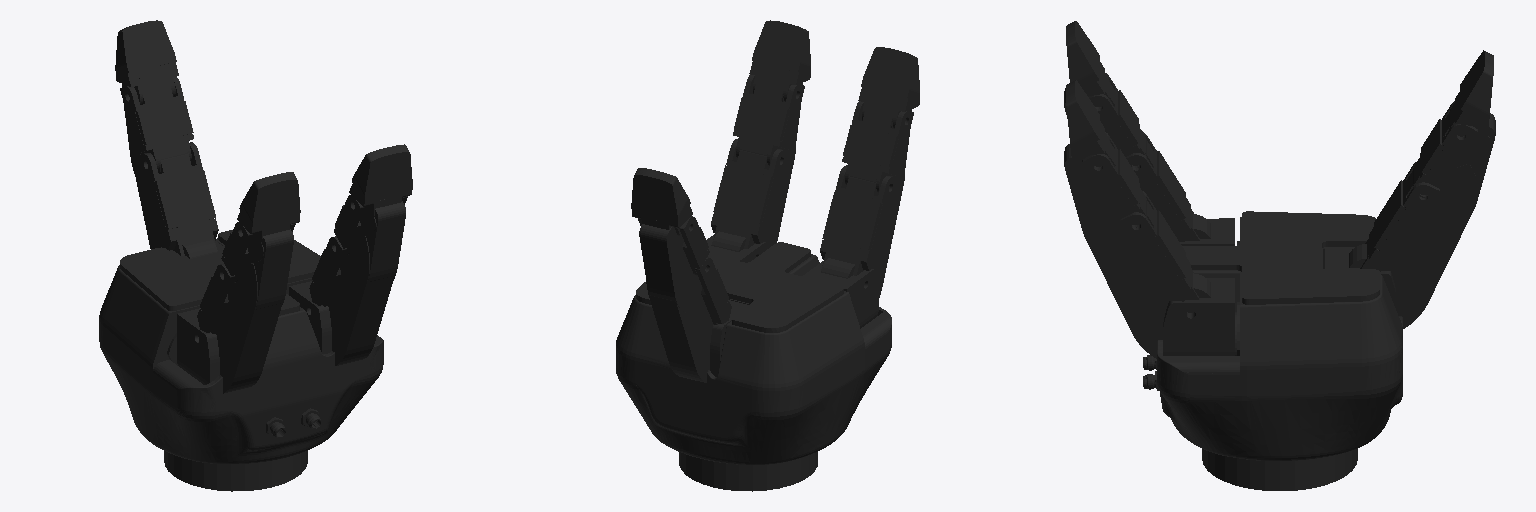
--- Facts derived from the render (not from the file) ---
Views: 3 orthographic renders of the robot side by side, from view 1: azimuth 30°, elevation 25°; view 2: azimuth 150°, elevation 25°; view 3: azimuth 270°, elevation 25°.
Model kuka with 23 links and 22 joints (18 revolute, 4 fixed), rooted at iiwa7_link_0, posed all joints at 0.
Visible links, largest first — view 1: palm, finger_middle_link_1, finger_1_link_1, finger_2_link_1, finger_middle_link_2, finger_middle_link_3, dummy_ft_link, finger_1_link_3, finger_2_link_3, finger_1_link_2, finger_2_link_2, finger_2_link_0 (+1 smaller); view 2: palm, finger_2_link_1, finger_1_link_1, finger_middle_link_1, finger_middle_link_2, finger_2_link_2, finger_1_link_2, finger_2_link_3, finger_1_link_3, dummy_ft_link, finger_middle_link_3, finger_2_link_0 (+2 smaller); view 3: palm, finger_middle_link_1, finger_1_link_1, finger_1_link_2, finger_1_link_0, dummy_ft_link, finger_2_link_1, finger_middle_link_2, finger_middle_link_3, finger_1_link_3, finger_2_link_2, finger_2_link_3 (+2 smaller).
Boxes of the visible links, <box> form: palm: <box>99,230,383,463</box>; finger_middle_link_1: <box>136,142,218,258</box>; finger_1_link_1: <box>309,236,394,365</box>; finger_2_link_1: <box>197,263,282,393</box>; finger_middle_link_2: <box>120,76,193,201</box>; finger_middle_link_3: <box>115,20,178,104</box>; dummy_ft_link: <box>164,451,307,491</box>; finger_1_link_3: <box>349,144,412,234</box>; finger_2_link_3: <box>237,172,300,261</box>; finger_1_link_2: <box>334,195,407,281</box>; finger_2_link_2: <box>221,222,295,309</box>; finger_2_link_0: <box>177,308,219,384</box>; palm: <box>616,242,891,464</box>; finger_2_link_1: <box>820,155,904,297</box>; finger_1_link_1: <box>711,128,795,251</box>; finger_middle_link_1: <box>646,257,731,382</box>; finger_middle_link_2: <box>638,216,709,312</box>; finger_2_link_2: <box>842,101,913,192</box>; finger_1_link_2: <box>733,74,804,165</box>; finger_2_link_3: <box>858,47,919,128</box>; finger_1_link_3: <box>749,20,810,101</box>; dummy_ft_link: <box>679,452,817,491</box>; finger_middle_link_3: <box>631,168,692,236</box>; finger_2_link_0: <box>802,261,878,328</box>; palm: <box>1143,211,1402,460</box>; finger_middle_link_1: <box>1349,162,1477,328</box>; finger_1_link_1: <box>1089,191,1210,358</box>; finger_1_link_2: <box>1064,132,1147,268</box>; finger_1_link_0: <box>1163,278,1236,355</box>; dummy_ft_link: <box>1202,448,1357,490</box>; finger_2_link_1: <box>1126,131,1210,241</box>; finger_middle_link_2: <box>1413,101,1495,208</box>; finger_middle_link_3: <box>1449,50,1493,162</box>; finger_1_link_3: <box>1066,80,1110,167</box>; finger_2_link_2: <box>1064,73,1147,167</box>; finger_2_link_3: <box>1066,21,1110,108</box>.
Bounding box of the posed robot: 0.1302 × 0.2208 × 0.2262 m (x, y, z).
13 mesh visuals loaded from 13 distinct referenced files (5 Collada DAE); not drawn: 8 (reference not matched to a file when rendering).

URDF robot description (kuka):
<?xml version="1.0"?>

<robot name="kuka">
    <!-- Custom materials (colours) -->
    <material name="Black">
        <color rgba="0.2 0.2 0.2 1.0" />
    </material>
    <material name="Grey">
        <color rgba="0.4 0.4 0.4 1.0"/>
    </material>
    <material name="Red">
        <color rgba="0.3 0.0 0.0 0.3" />
    </material>
    <material name="White">
        <color rgba="1.0 1.0 1.0 1.0" />
    </material>

    <link name="iiwa7_link_0">
        <inertial>
            <origin xyz="-0.1 0 0.07" rpy="0 0 0"/>
            <mass value="5"/>
            <inertia ixx="0.05" ixy="0" ixz="0" iyy="0.06" iyz="0" izz="0.03" />
        </inertial>

        <visual>
            <origin xyz="0 0 0" rpy="0 0 0"/>
            <geometry>
                <mesh filename="../mesh/iiwa14/visual/link_0.obj"/>
            </geometry>
            <material name="White"/>
        </visual>

        <collision>
            <origin xyz="0 0 0" rpy="0 0 0"/>
            <geometry>
                <mesh filename="../mesh/iiwa14/collision/link_0.obj"/>
            </geometry>
            <material name="White"/>
        </collision>

        <self_collision_checking>
            <origin xyz="0 0 0" rpy="0 0 0"/>
            <geometry>
                <capsule radius="0.15" length="0.25"/>
            </geometry>
        </self_collision_checking>

    </link>

    <!-- joint between link_0 and link_1 -->
    <joint name="iiwa7_joint_1" type="revolute">
        <parent link="iiwa7_link_0"/>
        <child link="iiwa7_link_1"/>
        <origin xyz="0 0 0.1575" rpy="0 0 0"/>
        <axis xyz="0 0 1"/>
        <limit lower="-2.96705972839" upper="2.96705972839" effort="300" velocity="2" />
        <safety_controller soft_lower_limit="-2.93215314335" soft_upper_limit="2.93215314335" k_position="100" k_velocity="2"/>
        <dynamics damping="0.5"/>
    </joint>

    <link name="iiwa7_link_1">
        <inertial>
            <origin xyz="0 -0.03 0.12" rpy="0 0 0"/>
            <mass value="4"/>
            <inertia ixx="0.1" ixy="0" ixz="0" iyy="0.09" iyz="0" izz="0.02" />
        </inertial>

        <visual>
            <origin xyz="0 0 0" rpy="0 0 0"/>
            <geometry>
                <mesh filename="../mesh/iiwa14/visual/link_1.obj"/>
            </geometry>
            <material name="White"/>
        </visual>

        <collision>
            <origin xyz="0 0 0" rpy="0 0 0"/>
            <geometry>
                <mesh filename="../mesh/iiwa14/collision/link_1.obj"/>
            </geometry>
            <material name="White"/>
        </collision>
    </link>

    <!-- joint between link_1 and link_2 -->
    <joint name="iiwa7_joint_2" type="revolute">
        <parent link="iiwa7_link_1"/>
        <child link="iiwa7_link_2"/>
        <origin xyz="0 0 0.2025" rpy="1.57079632679   0 3.14159265359"/>
        <axis xyz="0 0 1"/>
        <limit lower="-2.09439510239" upper="2.09439510239" effort="300" velocity="2" />
        <safety_controller soft_lower_limit="-2.05948851735" soft_upper_limit="2.05948851735" k_position="100" k_velocity="2"/>
        <dynamics damping="0.5"/>
    </joint>

    <link name="iiwa7_link_2">
        <inertial>
            <origin xyz="0.0003 0.059 0.042" rpy="0 0 0"/>
            <mass value="4"/>
            <inertia ixx="0.05" ixy="0" ixz="0" iyy="0.018" iyz="0" izz="0.044" />
        </inertial>

        <visual>
            <origin xyz="0 0 0" rpy="0 0 0"/>
            <geometry>
                <mesh filename="../mesh/iiwa14/visual/link_2.obj"/>
            </geometry>
            <material name="White"/>
        </visual>

        <collision>
            <origin xyz="0 0 0" rpy="0 0 0"/>
            <geometry>
                <mesh filename="../mesh/iiwa14/collision/link_2.obj"/>
            </geometry>
            <material name="White"/>
        </collision>
    </link>

    <!-- joint between link_2 and link_3 -->
    <joint name="iiwa7_joint_3" type="revolute">
        <parent link="iiwa7_link_2"/>
        <child link="iiwa7_link_3"/>
        <origin xyz="0 0.2045 0" rpy="1.57079632679 0 3.14159265359"/>
        <axis xyz="0 0 1"/>
        <limit lower="-2.96705972839" upper="2.96705972839" effort="300" velocity="2" />
        <safety_controller soft_lower_limit="-2.93215314335" soft_upper_limit="2.93215314335" k_position="100" k_velocity="2"/>
        <dynamics damping="0.5"/>
    </joint>

    <link name="iiwa7_link_3">
        <inertial>
            <origin xyz="0 0.03 0.13" rpy="0 0 0"/>
            <mass value="3"/>
            <inertia ixx="0.08" ixy="0" ixz="0" iyy="0.075" iyz="0" izz="0.01" />
        </inertial>

        <visual>
            <origin xyz="0 0 0" rpy="0 0 0"/>
            <geometry>
                <mesh filename="../mesh/iiwa14/visual/link_3.obj"/>
            </geometry>
            <material name="White"/>
        </visual>

        <collision>
            <origin xyz="0 0 0" rpy="0 0 0"/>
            <geometry>
                <mesh filename="../mesh/iiwa14/collision/link_3.obj"/>
            </geometry>
            <material name="White"/>
        </collision>
    </link>

    <!-- joint between link_3 and link_4 -->
    <joint name="iiwa7_joint_4" type="revolute">
        <parent link="iiwa7_link_3"/>
        <child link="iiwa7_link_4"/>
        <origin xyz="0 0 0.2155" rpy="1.57079632679 0 0"/>
        <axis xyz="0 0 1"/>
        <limit lower="-2.09439510239" upper="2.09439510239" effort="300" velocity="2" />
        <safety_controller soft_lower_limit="-2.05948851735" soft_upper_limit="2.05948851735" k_position="100" k_velocity="2"/>
        <dynamics damping="0.5"/>
    </joint>

    <link name="iiwa7_link_4">
        <inertial>
            <origin xyz="0 0.067 0.034" rpy="0 0 0"/>
            <mass value="2.7"/>
            <inertia ixx="0.03" ixy="0" ixz="0" iyy="0.01" iyz="0" izz="0.029" />
        </inertial>

        <visual>
            <origin xyz="0 0 0" rpy="0 0 0"/>
            <geometry>
                <mesh filename="../mesh/iiwa14/visual/link_4.obj"/>
            </geometry>
            <material name="White"/>
        </visual>

        <collision>
            <origin xyz="0 0 0" rpy="0 0 0"/>
            <geometry>
                <mesh filename="../mesh/iiwa14/collision/link_4.obj"/>
            </geometry>
            <material name="White"/>
        </collision>
    </link>

    <!-- joint between link_4 and link_5 -->
    <joint name="iiwa7_joint_5" type="revolute">
        <parent link="iiwa7_link_4"/>
        <child link="iiwa7_link_5"/>
        <origin xyz="0 0.1845 0" rpy="-1.57079632679 3.14159265359 0"/>
        <axis xyz="0 0 1"/>
        <limit lower="-2.96705972839" upper="2.96705972839" effort="300" velocity="2" />
        <safety_controller soft_lower_limit="-2.93215314335" soft_upper_limit="2.93215314335" k_position="100" k_velocity="2"/>
        <dynamics damping="0.5"/>
    </joint>

    <link name="iiwa7_link_5">
        <inertial>
            <origin xyz="0.0001 0.021 0.076" rpy="0 0 0"/>
            <mass value="1.7"/>
            <inertia ixx="0.02" ixy="0" ixz="0" iyy="0.018" iyz="0" izz="0.005" />
        </inertial>

        <visual>
            <origin xyz="0 0 0" rpy="0 0 0"/>
            <geometry>
                <mesh filename="../mesh/iiwa14/visual/link_5.obj"/>
            </geometry>
            <material name="White"/>
        </visual>

        <collision>
            <origin xyz="0 0 0" rpy="0 0 0"/>
            <geometry>
                <mesh filename="../mesh/iiwa14/collision/link_5.obj"/>
            </geometry>
            <material name="White"/>
        </collision>
    </link>

    <!-- joint between link_5 and link_6 -->
    <joint name="iiwa7_joint_6" type="revolute">
        <parent link="iiwa7_link_5"/>
        <child link="iiwa7_link_6"/>
        <origin xyz="0 0 0.2155" rpy="1.57079632679 0 0"/>
        <axis xyz="0 0 1"/>
        <limit lower="-2.09439510239" upper="2.09439510239" effort="300" velocity="2" />
        <safety_controller soft_lower_limit="-2.05948851735" soft_upper_limit="2.05948851735" k_position="100" k_velocity="2"/>
        <dynamics damping="0.5"/>
    </joint>

    <link name="iiwa7_link_6">
        <inertial>
            <origin xyz="0 0.0006 0.0004" rpy="0 0 0"/>
            <mass value="1.8"/>
            <inertia ixx="0.005" ixy="0" ixz="0" iyy="0.0036" iyz="0" izz="0.0047" />
        </inertial>

        <visual>
            <origin xyz="0 0 0" rpy="0 0 0"/>
            <geometry>
                <mesh filename="../mesh/iiwa14/visual/link_6.obj"/>
            </geometry>
            <material name="White"/>
        </visual>

        <collision>
            <origin xyz="0 0 0" rpy="0 0 0"/>
            <geometry>
                <mesh filename="../mesh/iiwa14/collision/link_6.obj"/>
            </geometry>
            <material name="White"/>
        </collision>
    </link>

    <!-- joint between link_6 and link_7 -->
    <joint name="iiwa7_joint_7" type="revolute">
        <parent link="iiwa7_link_6"/>
        <child link="iiwa7_link_7"/>
        <origin xyz="0 0.081 0" rpy="-1.57079632679 3.14159265359 0"/>
        <!-- <origin xyz="0 0.081 0" rpy="-1.57079632679 0 0"/> -->
        <axis xyz="0 0 1"/>
        <limit lower="-3.05432619099" upper="3.05432619099" effort="300" velocity="2" />
        <safety_controller soft_lower_limit="-3.01941960595" soft_upper_limit="3.01941960595" k_position="100" k_velocity="2"/>
        <dynamics damping="0.5"/>
    </joint>

    <link name="iiwa7_link_7">
        <inertial>
            <origin xyz="0 0 0.02" rpy="0 0 0"/>
            <mass value="0.3"/>
            <inertia ixx="0.001" ixy="0" ixz="0" iyy="0.001" iyz="0" izz="0.001" />
        </inertial>

        <visual>
            <origin xyz="0 0 0" rpy="0 0 0"/>
            <geometry>
                <mesh filename="../mesh/iiwa14/visual/link_7-MF-Touch-pneumatisch.obj"/>
            </geometry>
            <material name="Grey"/>
        </visual>

        <collision>
            <origin xyz="0 0 0" rpy="0 0 0"/>
            <geometry>
                <mesh filename="../mesh/iiwa14/visual/link_7-MF-Touch-pneumatisch.obj"/>
            </geometry>
            <material name="Grey"/>
        </collision>
    </link>

    <!-- Robotiq 3 Finger Coupling: https://assets.robotiq.com/website-assets/support_documents/document/3-Finger_PDF_20190221.pdf#page=80 -->
    <link name="dummy_ft_link">
        <visual>
            <geometry>
                <cylinder length="0.02" radius="0.04"/>
            </geometry>
            <material name="Black"/>
        </visual>
        <inertial>
            <origin xyz="0 0 0" rpy="0 0 0"/>
            <mass value="0.025"/>
            <inertia ixx="0.001" ixy="0" ixz="0" iyy="0.001" iyz="0" izz="0.001" />
        </inertial>
        <collision>
            <origin xyz="0 0 0" rpy="0 0 0"/>
            <geometry>
                <cylinder length="0.02" radius="0.04"/>
            </geometry>
            <material name="Black"/>
        </collision>
    </link>

    <!-- joint between link_ee and gripper -->
    <joint name="iiwa_ft_base_joint" type="fixed">
        <parent link="iiwa7_link_7"/>
        <child link="dummy_ft_link"/>
        <origin rpy="0 0 0" xyz="0 0 0.081001"/>
        <!-- <origin rpy="0 0 0" xyz="0 0 0.09"/> -->
    </joint>

    <joint name="iiwa_gripper_base_joint" type="fixed">
        <parent link="dummy_ft_link"/>
        <child link="palm"/>
        <origin rpy="1.57079632679 0 1.57079632679" xyz="0 0 0.054"/>
    </joint>

    <!-- Robotiq 3 Finger Articulated URDF: https://github.com/ros-industrial-attic/robotiq/blob/kinetic-devel/robotiq_3f_gripper_visualization/cfg/robotiq-3f-gripper_articulated.urdf -->
    <link name="finger_1_link_0">
        <visual>
            <origin rpy="0 0 0" xyz="0.020 0 0" />
            <geometry>
                <mesh
                    filename="../mesh/robotiq_3f_gripper_visualization/meshes/robotiq-3f-gripper_articulated/visual_Y_UP/link_0.dae" />
            </geometry>
            <material name="Black" />
        </visual>
        <collision>
            <origin rpy="0 3.1416 -1.57" xyz="-0.0455 0.0414 0.036" />
            <geometry>
                <mesh
                    filename="../mesh/robotiq_3f_gripper_visualization/meshes/robotiq-3f-gripper_articulated/collision/link_0.STL" />
            </geometry>
            <material name="Black" />
        </collision>
        <inertial>
            <origin rpy="0 0 0" xyz="0 0 0" />
            <mass value="0.05" />
            <inertia ixx="0.01" ixy="-0.00002" ixz="0.00001" iyy="0.0008" iyz="0" izz="0.001" />
        </inertial>
    </link>
    <link name="finger_1_link_1">
        <visual>
            <origin rpy="0 0 -0.52" xyz="0.050 -.028 0" />
            <geometry>
                <mesh
                    filename="../mesh/robotiq_3f_gripper_visualization/meshes/robotiq-3f-gripper_articulated/visual_Y_UP/link_1.dae" />
            </geometry>
            <material name="Black" />
        </visual>
        <collision>
            <origin rpy="0 0 -0.52" xyz="0.050 -.028 0" />
            <geometry>
                <mesh
                    filename="../mesh/robotiq_3f_gripper_visualization/meshes/robotiq-3f-gripper_articulated/collision/link_1.STL" />
            </geometry>
            <material name="Black" />
        </collision>
        <inertial>
            <origin rpy="0 0 0" xyz="0 0 0" />
            <mass value="0.15" />
            <inertia ixx="0.001859" ixy="-0.000376" ixz="0.000028" iyy="0.012756" iyz="0"
                izz="0.0024" />
        </inertial>
    </link>
    <link name="finger_1_link_2">
        <!--
			NOTE: This link has an offset in the z-direction based on the models that were
			used to generate grap-it poses.  With the offset below the model appears visually
			correct, but it is suspect.
			-->
        <visual>
            <origin rpy="0 0 0" xyz="0.039 0 0.0075" />
            <geometry>
                <mesh
                    filename="../mesh/robotiq_3f_gripper_visualization/meshes/robotiq-3f-gripper_articulated/visual_Y_UP/link_2.dae" />
            </geometry>
            <material name="Black" />
        </visual>
        <collision>
            <origin rpy="0 0 0" xyz="0.039 0 0.0075" />
            <geometry>
                <mesh
                    filename="../mesh/robotiq_3f_gripper_visualization/meshes/robotiq-3f-gripper_articulated/collision/link_2.STL" />
            </geometry>
            <material name="Black" />
        </collision>
        <inertial>
            <origin rpy="0 0 0" xyz="0 0 0" />
            <mass value="0.15" />
            <inertia ixx="0.001859" ixy="-0.000376" ixz="0.000028" iyy="0.012756" iyz="0"
                izz="0.0024" />
        </inertial>
    </link>
    <link name="finger_1_link_3">
        <visual>
            <!-- <origin rpy="0 0 0.52" xyz="0 0 0" /> -->
            <origin rpy="0 0 0" xyz="0 0 0" />
            <geometry>
                <mesh
                    filename="../mesh/robotiq_3f_gripper_visualization/meshes/robotiq-3f-gripper_articulated/visual_Y_UP/link_3.dae" />
            </geometry>
            <material name="Black" />
        </visual>
        <collision>
            <!-- <origin rpy="0 0 0.52" xyz="0 0 0" /> -->
            <origin rpy="0 0 0" xyz="0 0 0" />
            <geometry>
                <mesh
                    filename="../mesh/robotiq_3f_gripper_visualization/meshes/robotiq-3f-gripper_articulated/collision/link_3.STL" />
            </geometry>
            <material name="Black" />
        </collision>
        <inertial>
            <origin rpy="0 0 0" xyz="0 0 0" />
            <mass value="0.05" />
            <inertia ixx="0.001239" ixy="-0.000251" ixz="0.000019" iyy="0.00085" iyz="0"
                izz="0.001632" />
        </inertial>
    </link>
    <joint name="finger_1_joint_1" type="revolute">
        <parent link="finger_1_link_0" />
        <child link="finger_1_link_1" />
        <axis xyz="0 0 1" />
        <origin rpy="0 0 0" xyz="0.020 0 0" />
        <limit effort="100" lower="0" upper="3.1416" velocity="100" />
    </joint>
    <joint name="finger_1_joint_2" type="revolute">
        <parent link="finger_1_link_1" />
        <child link="finger_1_link_2" />
        <axis xyz="0 0 1" />
        <origin rpy="0 0 -0.52" xyz="0.050 -.028 0" />
        <limit effort="100" lower="0" upper="3.1416" velocity="100" />
    </joint>
    <joint name="finger_1_joint_3" type="revolute">
        <parent link="finger_1_link_2" />
        <child link="finger_1_link_3" />
        <axis xyz="0 0 1" />
        <origin rpy="0 0 0" xyz="0.039 0 0" />
        <limit effort="100" lower="0" upper="3.1416" velocity="100" />
    </joint>
    <link name="finger_2_link_0">
        <visual>
            <origin rpy="0 0 0" xyz="0.020 0 0" />
            <geometry>
                <mesh
                    filename="../mesh/robotiq_3f_gripper_visualization/meshes/robotiq-3f-gripper_articulated/visual_Y_UP/link_0.dae" />
            </geometry>
            <material name="Black" />
        </visual>
        <collision>
            <origin rpy="0 3.1416 -1.57" xyz="-0.0455 0.0414 0.036" />
            <geometry>
                <mesh
                    filename="../mesh/robotiq_3f_gripper_visualization/meshes/robotiq-3f-gripper_articulated/collision/link_0.STL" />
            </geometry>
            <material name="Black" />
        </collision>
        <inertial>
            <origin rpy="0 0 0" xyz="0 0 0" />
            <mass value="0.05" />
            <inertia ixx="0.01" ixy="-0.00002" ixz="0.00001" iyy="0.0008" iyz="0" izz="0.001" />
        </inertial>
    </link>
    <link name="finger_2_link_1">
        <visual>
            <origin rpy="0 0 -0.52" xyz="0.050 -.028 0" />
            <geometry>
                <mesh
                    filename="../mesh/robotiq_3f_gripper_visualization/meshes/robotiq-3f-gripper_articulated/visual_Y_UP/link_1.dae" />
            </geometry>
            <material name="Black" />
        </visual>
        <collision>
            <origin rpy="0 0 -0.52" xyz="0.050 -.028 0" />
            <geometry>
                <mesh
                    filename="../mesh/robotiq_3f_gripper_visualization/meshes/robotiq-3f-gripper_articulated/collision/link_1.STL" />
            </geometry>
            <material name="Black" />
        </collision>
        <inertial>
            <origin rpy="0 0 0" xyz="0 0 0" />
            <mass value="0.15" />
            <inertia ixx="0.001859" ixy="-0.000376" ixz="0.000028" iyy="0.012756" iyz="0"
                izz="0.0024" />
        </inertial>
    </link>
    <link name="finger_2_link_2">
        <!--
			NOTE: This link has an offset in the z-direction based on the models that were
			used to generate grap-it poses.  With the offset below the model appears visually
			correct, but it is suspect.
			-->
        <visual>
            <origin rpy="0 0 0" xyz="0.039 0 0.0075" />
            <geometry>
                <mesh
                    filename="../mesh/robotiq_3f_gripper_visualization/meshes/robotiq-3f-gripper_articulated/visual_Y_UP/link_2.dae" />
            </geometry>
            <material name="Black" />
        </visual>
        <collision>
            <origin rpy="0 0 0" xyz="0.039 0 0.0075" />
            <geometry>
                <mesh
                    filename="../mesh/robotiq_3f_gripper_visualization/meshes/robotiq-3f-gripper_articulated/collision/link_2.STL" />
            </geometry>
            <material name="Black" />
        </collision>
        <inertial>
            <origin rpy="0 0 0" xyz="0 0 0" />
            <mass value="0.15" />
            <inertia ixx="0.001859" ixy="-0.000376" ixz="0.000028" iyy="0.012756" iyz="0"
                izz="0.0024" />
        </inertial>
    </link>
    <link name="finger_2_link_3">
        <visual>
            <!-- <origin rpy="0 0 0.52" xyz="0 0 0" /> -->
            <origin rpy="0 0 0" xyz="0 0 0" />
            <geometry>
                <mesh
                    filename="../mesh/robotiq_3f_gripper_visualization/meshes/robotiq-3f-gripper_articulated/visual_Y_UP/link_3.dae" />
            </geometry>
            <material name="Black" />
        </visual>
        <collision>
            <!-- <origin rpy="0 0 0.52" xyz="0 0 0" /> -->
            <origin rpy="0 0 0" xyz="0 0 0" />
            <geometry>
                <mesh
                    filename="../mesh/robotiq_3f_gripper_visualization/meshes/robotiq-3f-gripper_articulated/collision/link_3.STL" />
            </geometry>
            <material name="Black" />
        </collision>
        <inertial>
            <origin rpy="0 0 0" xyz="0 0 0" />
            <mass value="0.05" />
            <inertia ixx="0.001239" ixy="-0.000251" ixz="0.000019" iyy="0.00085" iyz="0"
                izz="0.001632" />
        </inertial>
    </link>
    <joint name="finger_2_joint_1" type="revolute">
        <parent link="finger_2_link_0" />
        <child link="finger_2_link_1" />
        <axis xyz="0 0 1" />
        <origin rpy="0 0 0" xyz="0.020 0 0" />
        <limit effort="100" lower="0" upper="3.1416" velocity="100" />
    </joint>
    <joint name="finger_2_joint_2" type="revolute">
        <parent link="finger_2_link_1" />
        <child link="finger_2_link_2" />
        <axis xyz="0 0 1" />
        <origin rpy="0 0 -0.52" xyz="0.050 -.028 0" />
        <limit effort="100" lower="0" upper="3.1416" velocity="100" />
    </joint>
    <joint name="finger_2_joint_3" type="revolute">
        <parent link="finger_2_link_2" />
        <child link="finger_2_link_3" />
        <axis xyz="0 0 1" />
        <origin rpy="0 0 0" xyz="0.039 0 0" />
        <limit effort="100" lower="0" upper="3.1416" velocity="100" />
    </joint>
    <link name="finger_middle_link_0">
        <visual>
            <origin rpy="0 0 0" xyz="0.020 0 0" />
            <geometry>
                <mesh
                    filename="../mesh/robotiq_3f_gripper_visualization/meshes/robotiq-3f-gripper_articulated/visual_Y_UP/link_0.dae" />
            </geometry>
            <material name="Black" />
        </visual>
        <collision>
            <origin rpy="0 3.1416 -1.57" xyz="-0.0455 0.0414 0.036" />
            <geometry>
                <mesh
                    filename="../mesh/robotiq_3f_gripper_visualization/meshes/robotiq-3f-gripper_articulated/collision/link_0.STL" />
            </geometry>
            <material name="Black" />
        </collision>
        <inertial>
            <origin rpy="0 0 0" xyz="0 0 0" />
            <mass value="0.05" />
            <inertia ixx="0.01" ixy="-0.00002" ixz="0.00001" iyy="0.0008" iyz="0" izz="0.001" />
        </inertial>
    </link>
    <link name="finger_middle_link_1">
        <visual>
            <origin rpy="0 0 -0.52" xyz="0.050 -.028 0" />
            <geometry>
                <mesh
                    filename="../mesh/robotiq_3f_gripper_visualization/meshes/robotiq-3f-gripper_articulated/visual_Y_UP/link_1.dae" />
            </geometry>
            <material name="Black" />
        </visual>
        <collision>
            <origin rpy="0 0 -0.52" xyz="0.050 -.028 0" />
            <geometry>
                <mesh
                    filename="../mesh/robotiq_3f_gripper_visualization/meshes/robotiq-3f-gripper_articulated/collision/link_1.STL" />
            </geometry>
            <material name="Black" />
        </collision>
        <inertial>
            <origin rpy="0 0 0" xyz="0 0 0" />
            <mass value="0.15" />
            <inertia ixx="0.001859" ixy="-0.000376" ixz="0.000028" iyy="0.012756" iyz="0"
                izz="0.0024" />
        </inertial>
    </link>
    <link name="finger_middle_link_2">
        <!--
			NOTE: This link has an offset in the z-direction based on the models that were
			used to generate grap-it poses.  With the offset below the model appears visually
			correct, but it is suspect.
			-->
        <visual>
            <origin rpy="0 0 0" xyz="0.039 0 0.0075" />
            <geometry>
                <mesh
                    filename="../mesh/robotiq_3f_gripper_visualization/meshes/robotiq-3f-gripper_articulated/visual_Y_UP/link_2.dae" />
            </geometry>
            <material name="Black" />
        </visual>
        <collision>
            <origin rpy="0 0 0" xyz="0.039 0 0.0075" />
            <geometry>
                <mesh
                    filename="../mesh/robotiq_3f_gripper_visualization/meshes/robotiq-3f-gripper_articulated/collision/link_2.STL" />
            </geometry>
            <material name="Black" />
        </collision>
        <inertial>
            <origin rpy="0 0 0" xyz="0 0 0" />
            <mass value="0.15" />
            <inertia ixx="0.001859" ixy="-0.000376" ixz="0.000028" iyy="0.012756" iyz="0"
                izz="0.0024" />
        </inertial>
    </link>
    <link name="finger_middle_link_3">
        <visual>
            <!-- <origin rpy="0 0 0.52" xyz="0 0 0" /> -->
            <origin rpy="0 0 0" xyz="0 0 0" />
            <geometry>
                <mesh
                    filename="../mesh/robotiq_3f_gripper_visualization/meshes/robotiq-3f-gripper_articulated/visual_Y_UP/link_3.dae" />
            </geometry>
            <material name="Black" />
        </visual>
        <collision>
            <!-- <origin rpy="0 0 0.52" xyz="0 0 0" /> -->
            <origin rpy="0 0 0" xyz="0 0 0" />
            <geometry>
                <mesh
                    filename="../mesh/robotiq_3f_gripper_visualization/meshes/robotiq-3f-gripper_articulated/collision/link_3.STL" />
            </geometry>
            <material name="Black" />
        </collision>
        <inertial>
            <origin rpy="0 0 0" xyz="0 0 0" />
            <mass value="0.05" />
            <inertia ixx="0.001239" ixy="-0.000251" ixz="0.000019" iyy="0.00085" iyz="0"
                izz="0.001632" />
        </inertial>
    </link>
    <joint name="finger_middle_joint_1" type="revolute">
        <parent link="finger_middle_link_0" />
        <child link="finger_middle_link_1" />
        <axis xyz="0 0 1" />
        <origin rpy="0 0 0" xyz="0.020 0 0" />
        <limit effort="100" lower="0" upper="3.1416" velocity="100" />
    </joint>
    <joint name="finger_middle_joint_2" type="revolute">
        <parent link="finger_middle_link_1" />
        <child link="finger_middle_link_2" />
        <axis xyz="0 0 1" />
        <origin rpy="0 0 -0.52" xyz="0.050 -.028 0" />
        <limit effort="100" lower="0" upper="3.1416" velocity="100" />
    </joint>
    <joint name="finger_middle_joint_3" type="revolute">
        <parent link="finger_middle_link_2" />
        <child link="finger_middle_link_3" />
        <axis xyz="0 0 1" />
        <origin rpy="0 0 0" xyz="0.039 0 0" />
        <limit effort="100" lower="0" upper="3.1416" velocity="100" />
    </joint>
    <link name="palm">
        <visual>
            <geometry>
                <mesh
                    filename="../mesh/robotiq_3f_gripper_visualization/meshes/robotiq-3f-gripper_articulated/visual_Y_UP/palm.dae" />
            </geometry>
            <material name="Black" />
        </visual>
        <collision>
            <geometry>
                <mesh
                    filename="../mesh/robotiq_3f_gripper_visualization/meshes/robotiq-3f-gripper_articulated/collision/palm.STL" />
            </geometry>
            <material name="Black" />
        </collision>
    </link>
    <inertial>
        <origin rpy="0 0 0" xyz="0 0 0" />
        <mass value="1.3" />
        <inertia ixx="0.006012" ixy="0.000079" ixz="-0.00024" iyy="0.012892" iyz="0" izz="0.002435" />
    </inertial>
    <joint name="palm_finger_1_joint" type="revolute">
        <parent link="palm" />
        <child link="finger_1_link_0" />
        <axis xyz="0 1 0" />
        <origin rpy="0 3.1416 -1.57" xyz="-0.0455 0.0214 0.036" />
        <limit effort="100" lower="-0.16" upper="0.25" velocity="100" />
    </joint>
    <joint name="palm_finger_2_joint" type="revolute">
        <parent link="palm" />
        <child link="finger_2_link_0" />
        <axis xyz="0 1 0" />
        <origin rpy="0 3.1416 -1.57" xyz="-0.0455 0.0214 -0.036" />
        <limit effort="100" lower="-0.25" upper="0.16" velocity="100" />
    </joint>
    <joint name="palm_finger_middle_joint" type="fixed">
        <parent link="palm" />
        <child link="finger_middle_link_0" />
        <axis xyz="0 0 1" />
        <origin rpy="0 0 1.57" xyz="0.0455 0.0214 0" />
    </joint>
    <!--
        <include filename="$(find
    robotiq_3f_gripper_visualization)/cfg/robotiq-3f-gripper_finger_articulated_macro.xacro" />
        <xacro:robotiq-3f-gripper_finger_articulated prefix=""/>
-->
    <joint name="iiwa7_joint_ee" type="fixed">
        <parent link="palm" />
        <child link="kuka_fingertip_centered" />
        <origin rpy="-1.57 0 0" xyz="0.00 0.13 0.00" />
    </joint>

    <link name="kuka_fingertip_centered">
        <!-- <visual>
            <geometry>
                <cylinder length="0.08" radius="0.04" />
            </geometry>
            <material name="Red" />
        </visual> -->
    </link>

</robot>
